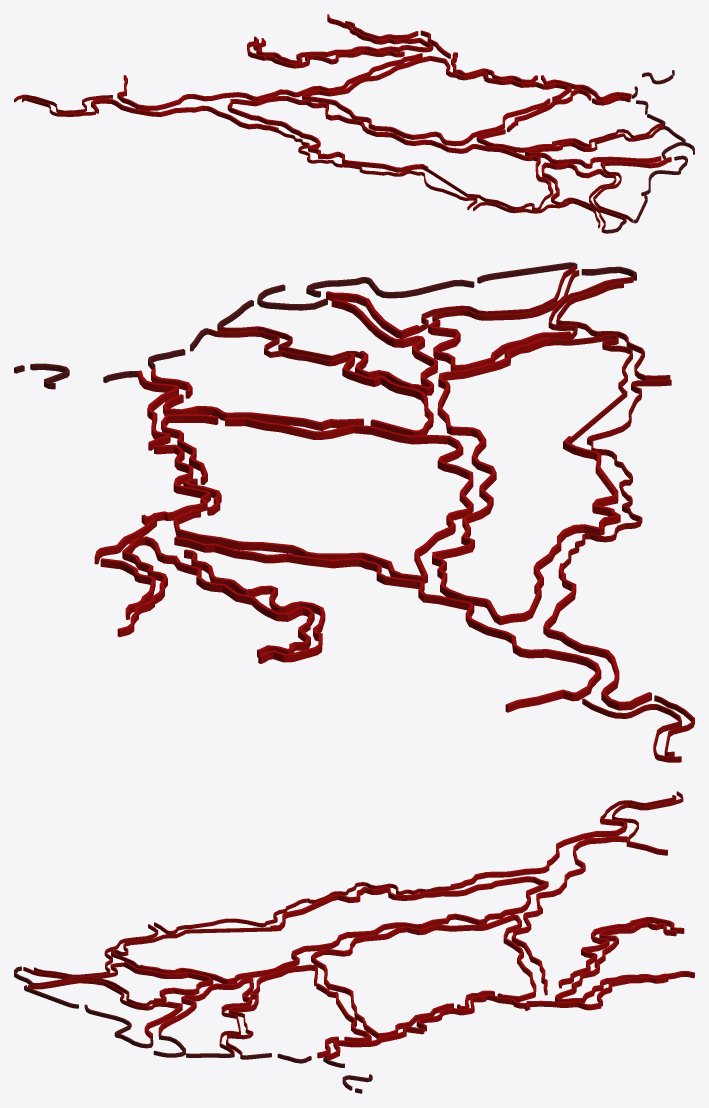
The model's file is SM_BigDykes_01.fbx.
The picture shows the model from 3 angles, top to bottom: view 1: azimuth 30°, elevation 25°; view 2: azimuth 150°, elevation 25°; view 3: azimuth 270°, elevation 25°; orthographic projection. The views are drawn at different scales.
Parts seen in each view (by area): view 1: SM_BigDykes_01; view 2: SM_BigDykes_01; view 3: SM_BigDykes_01.
Part boxes in pixels (left/top/right/bottom): SM_BigDykes_01: left=14, top=14, right=694, bottom=233; SM_BigDykes_01: left=14, top=262, right=694, bottom=762; SM_BigDykes_01: left=14, top=791, right=694, bottom=1093.
Bounding box in the file's own units: 640 × 5.02 × 616.
